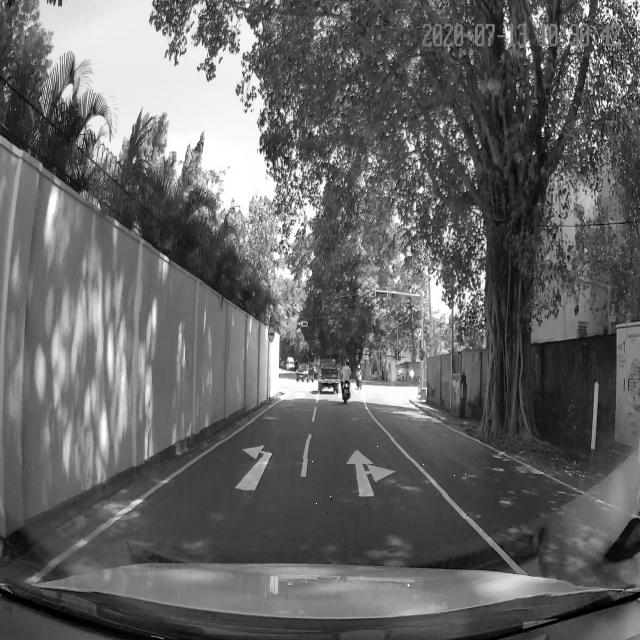forward_right: (290, 440, 471, 519), (291, 453, 466, 509), (293, 451, 448, 488), (291, 459, 450, 495)
